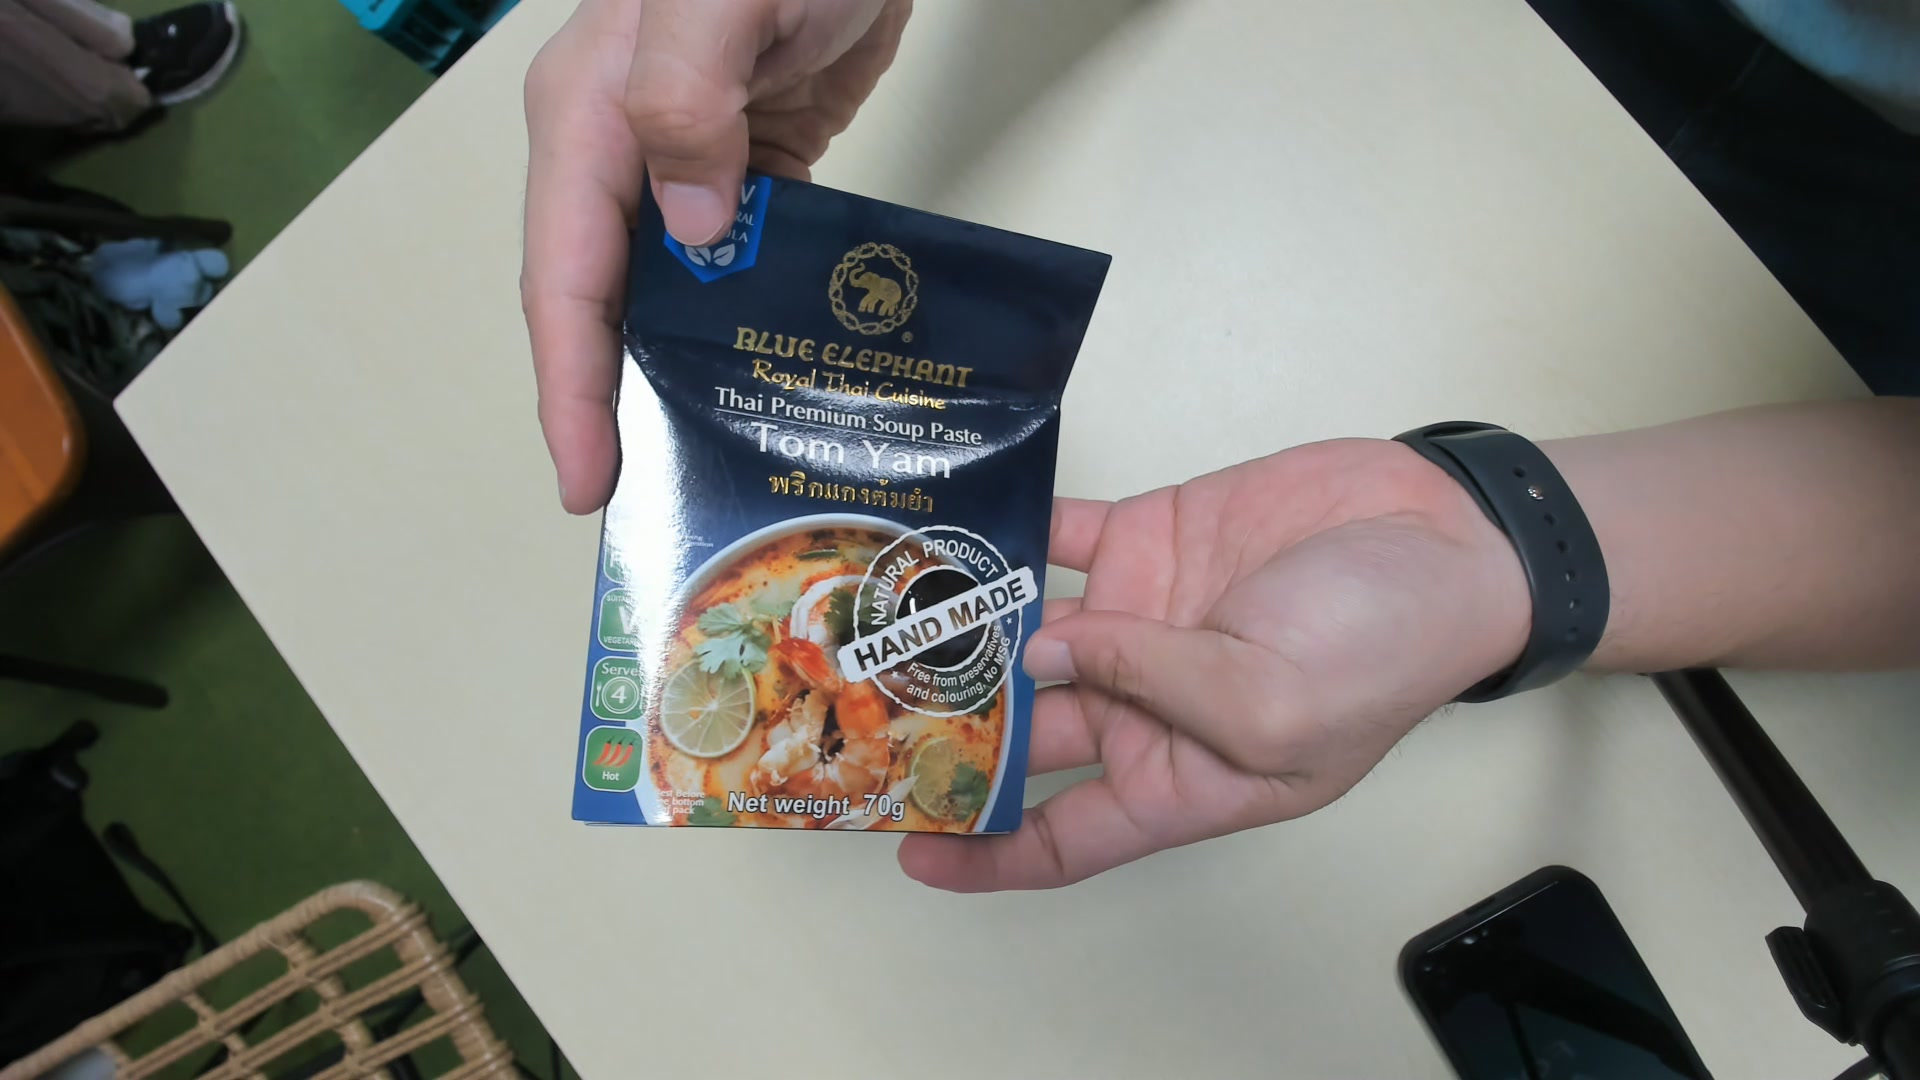OtherSauceDressing_0-99g_Halal_NonHealthy: (567, 162, 1109, 847)
